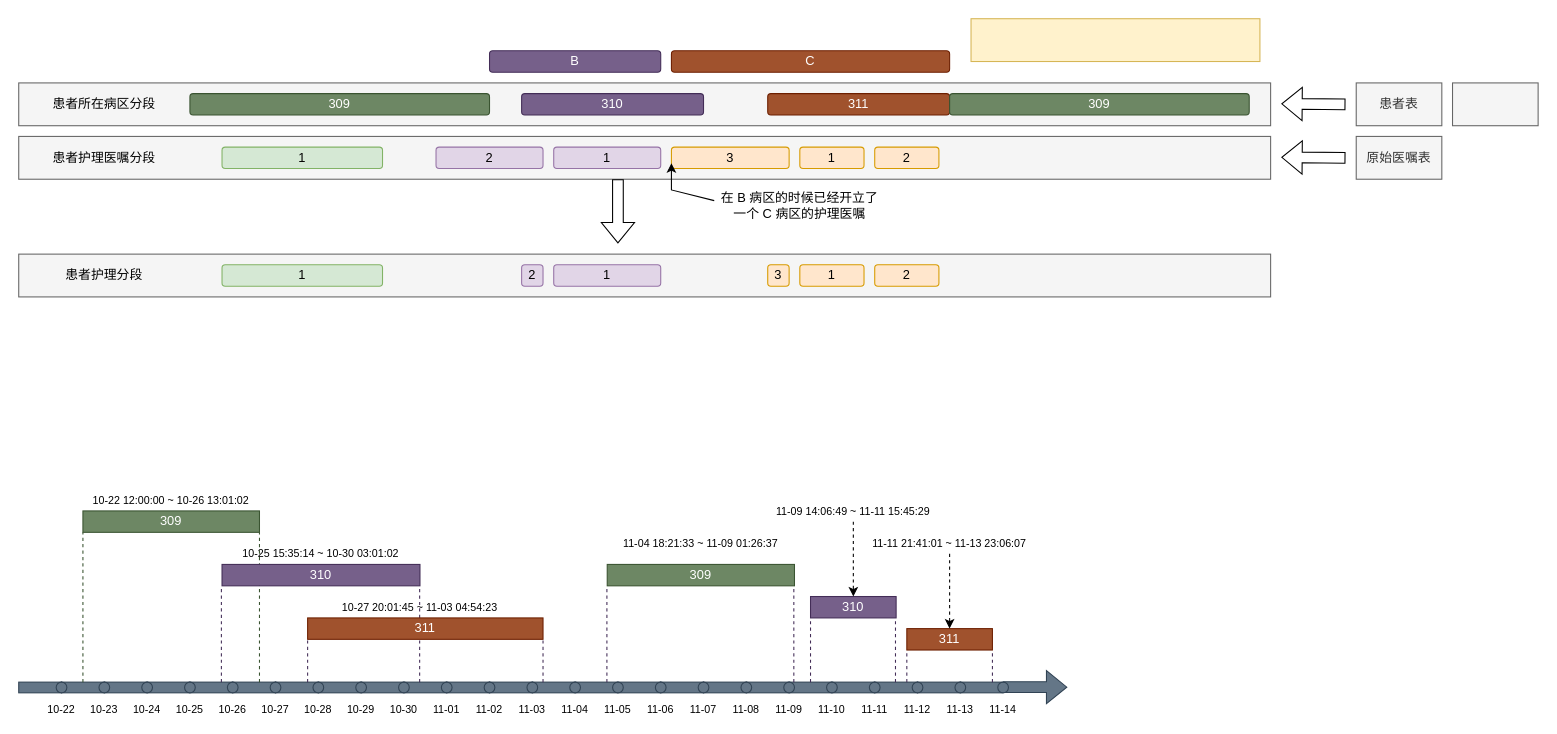
Some shapes in this 1557 by 734 pixel diagram are drawn without their labels. The shapes that lost their labels are listed below. From the top down, each one's box as (x1, y1, x2, y2) in pixels, then its label:
(970, 18, 1260, 62): 剩余一个考虑：继承上个病区的护理等级
(1451, 82, 1538, 126): 患者转科表
